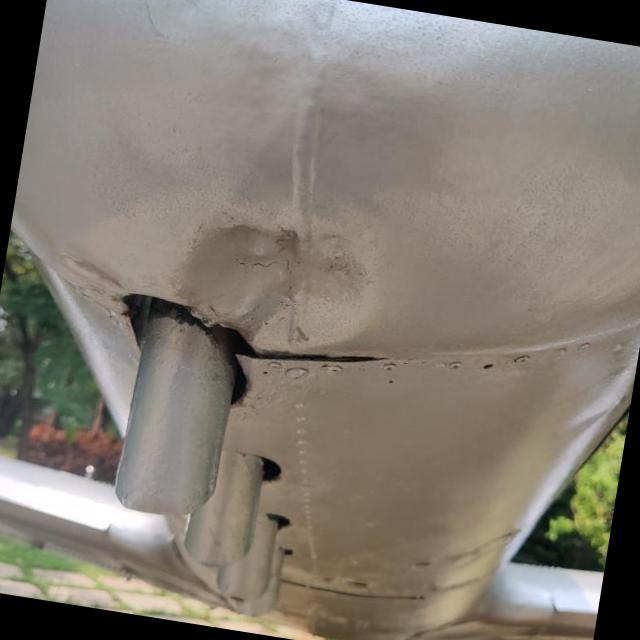Dent: (160, 201, 396, 358), (52, 249, 142, 315)
